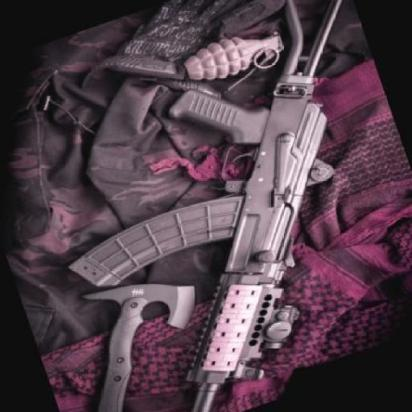Gun: (67, 0, 336, 412)
